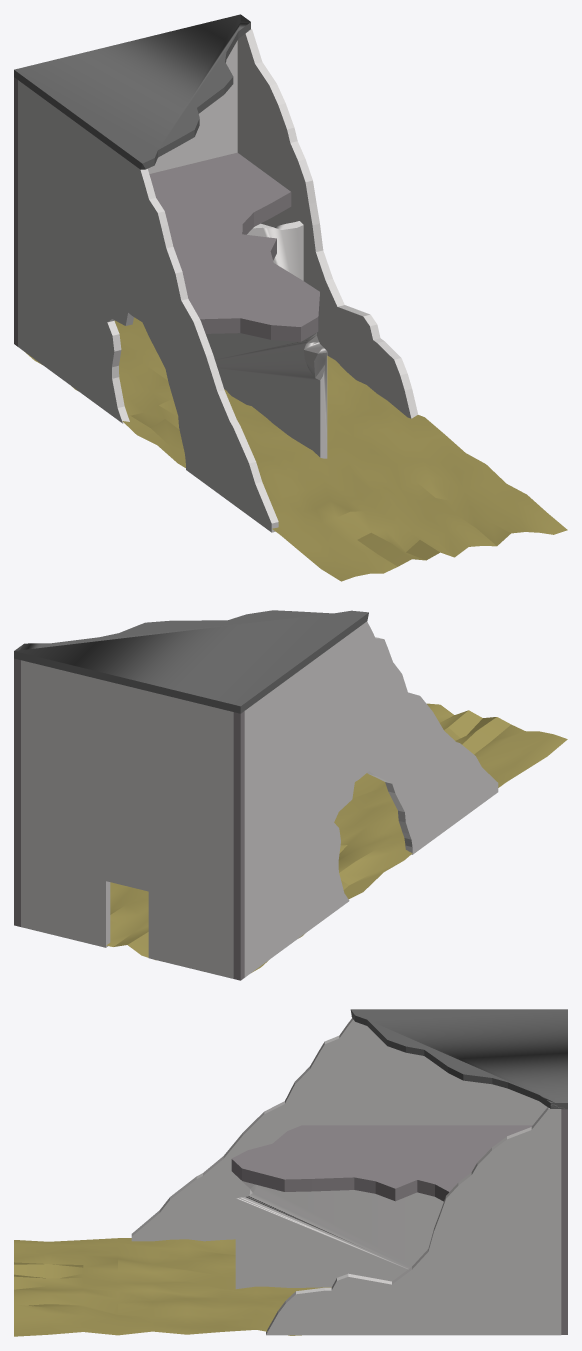
Rendered from Ruin2.0 (1).fbx.
3 renders of one model, top to bottom at view 1: azimuth 30°, elevation 25°; view 2: azimuth 150°, elevation 25°; view 3: azimuth 270°, elevation 25°, orthographic. The views are drawn at different scales.
Visible parts, largest first — view 1: side 1, Plane.002, Plane.001, roof, side2, Cube.004, door wall, Cube.005, joints.001; view 2: door wall, side 1, roof, Plane.002, joints.001, joints; view 3: side2, side 1, Plane.002, Cube.004, Plane.001, roof, joints.
Boxes of the visible parts, <box> form: side 1: <box>18,80,278,532</box>; Plane.002: <box>24,317,567,581</box>; Plane.001: <box>149,152,319,341</box>; roof: <box>14,14,250,169</box>; side2: <box>237,29,417,418</box>; Cube.004: <box>206,332,327,458</box>; door wall: <box>148,40,237,173</box>; Cube.005: <box>247,221,303,280</box>; joints.001: <box>14,77,17,346</box>; door wall: <box>21,660,233,978</box>; side 1: <box>244,621,498,977</box>; roof: <box>14,610,368,713</box>; Plane.002: <box>106,703,567,972</box>; joints.001: <box>233,711,244,980</box>; joints: <box>14,658,20,926</box>; side2: <box>266,1107,561,1335</box>; side 1: <box>131,1018,547,1241</box>; Plane.002: <box>14,1238,331,1336</box>; Cube.004: <box>235,1180,443,1289</box>; Plane.001: <box>231,1125,532,1201</box>; roof: <box>350,1009,567,1109</box>; joints: <box>561,1109,567,1334</box>.
Bounding box in the file's own units: 801 × 940 × 2000.
